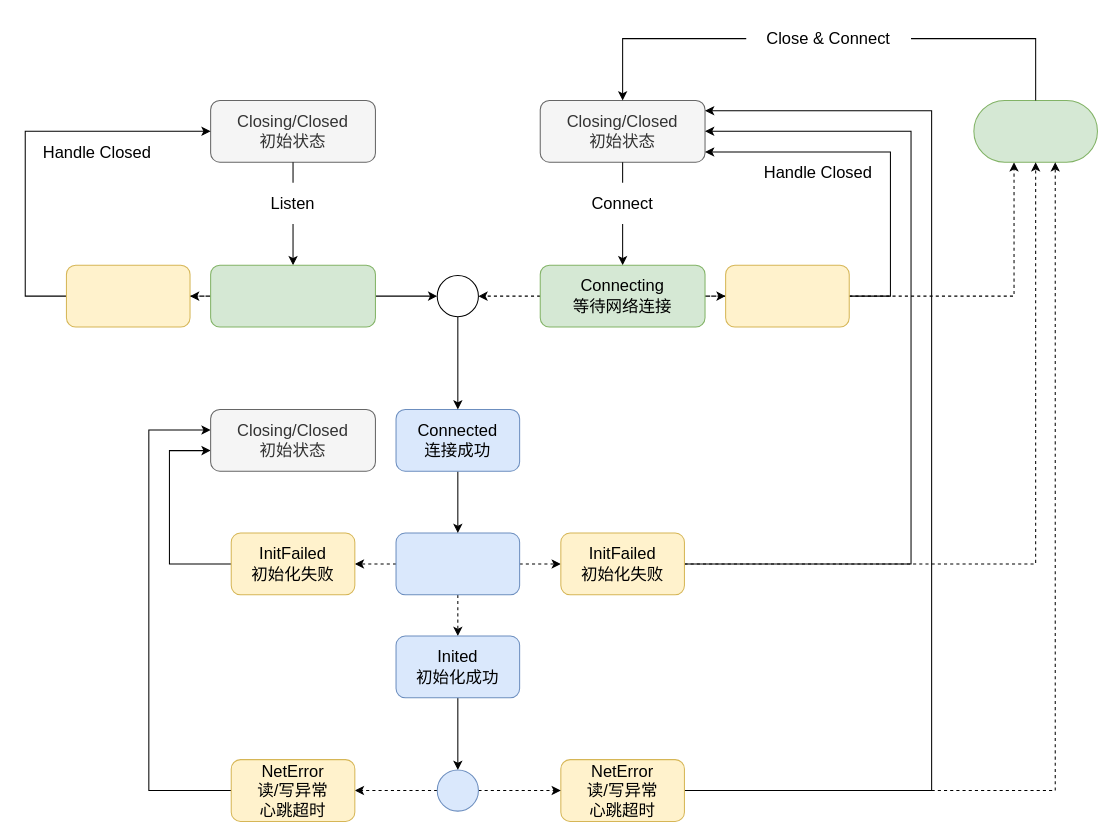
Image size: 1115x839. Some labels were removed from this diagram. The centre of each missing label's shape, as x and y in pixels:
ConnFailed 连接失败: point 787,295
InitRequest 初始化请求: point 457,563
Listen/Listening 监听网络: point 292,295
ListenFailed 监听失败: point 127,295
retryConn 网络重连: point 1035,130
